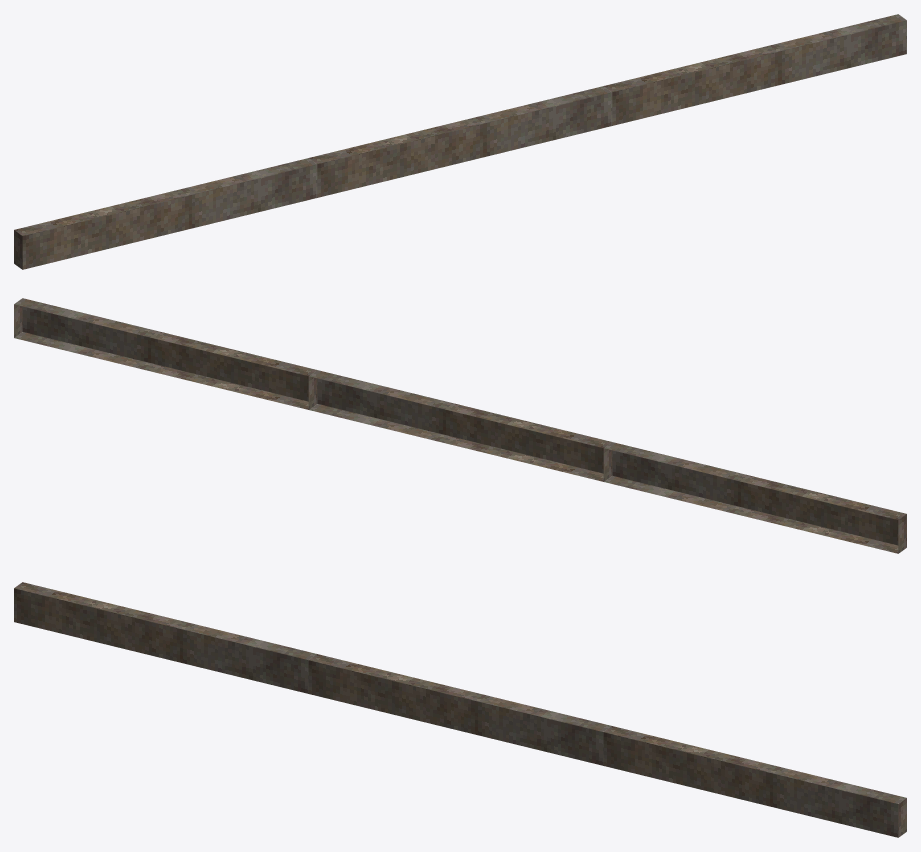
File: wall_cladding_6m_narrow_02.gltf
The picture shows the model from 3 angles, top to bottom: view 1: azimuth 30°, elevation 25°; view 2: azimuth 150°, elevation 25°; view 3: azimuth 330°, elevation 25°; orthographic projection.
Parts seen in each view (by area): view 1: wall_cladding_6m_narrow_02; view 2: wall_cladding_6m_narrow_02; view 3: wall_cladding_6m_narrow_02.
Part boxes in pixels (x1,y1,x2,y2): wall_cladding_6m_narrow_02: (14, 14, 906, 269); wall_cladding_6m_narrow_02: (14, 298, 906, 553); wall_cladding_6m_narrow_02: (14, 582, 906, 837).
Bounding box in the file's own units: 6 × 0.2188 × 0.1.
Materials: 1 (1 with a texture image).
